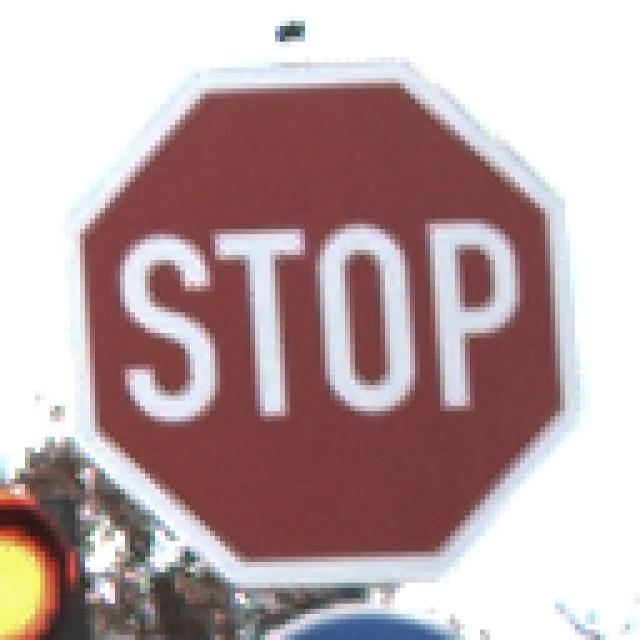STOP: (56, 58, 586, 589)
